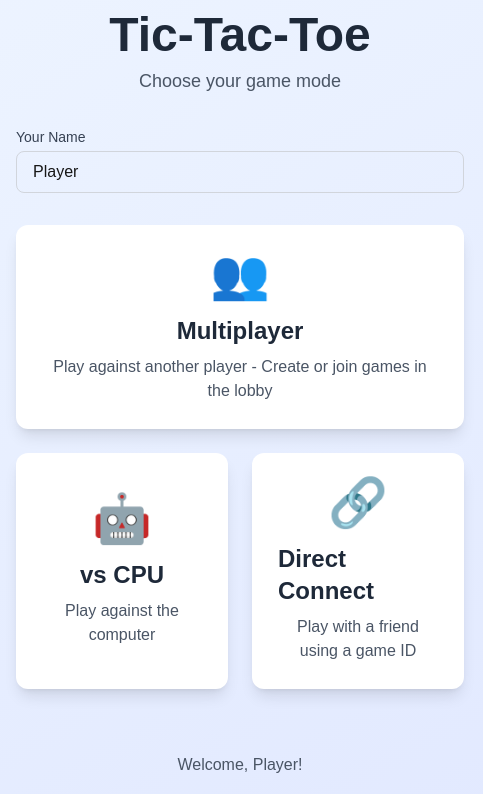
Home › updates welcome message when player name changes
The width and height of the screenshot is (483, 794).
Replace the text in the field labelled "Your Name" with "Alice": {"x": 240, "y": 172} [16,151,464,193]
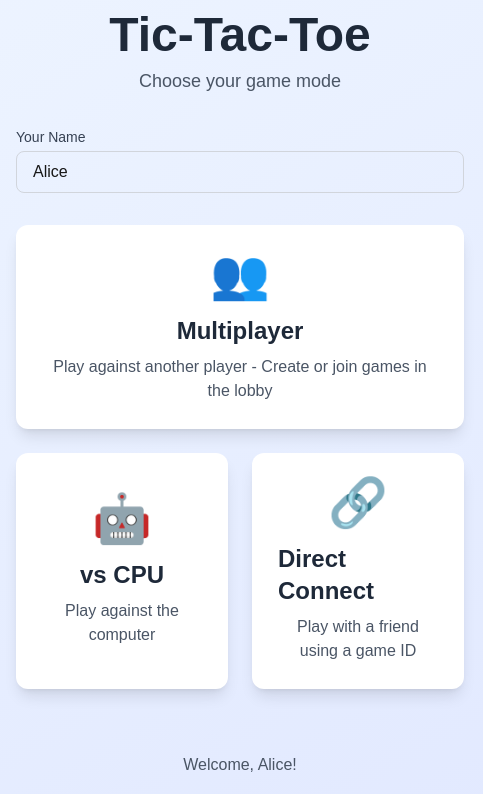
Expected: the text "Welcome, Alice!" is shown, [183,753,297,777]
